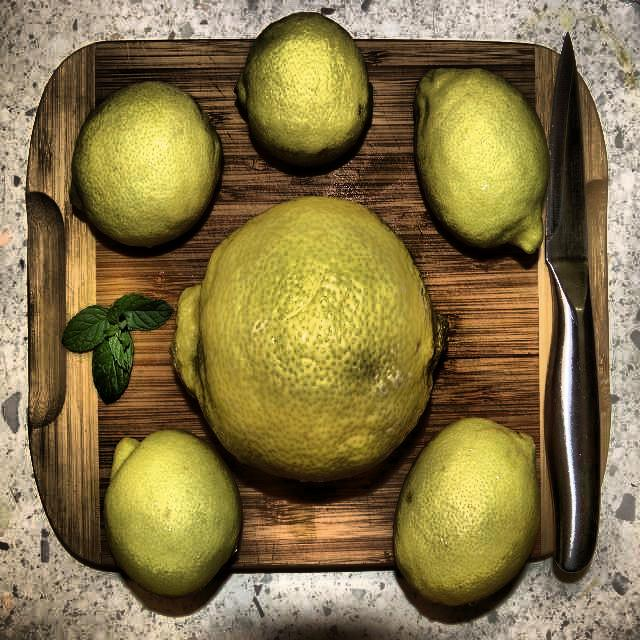knife: (545, 28, 605, 590)
